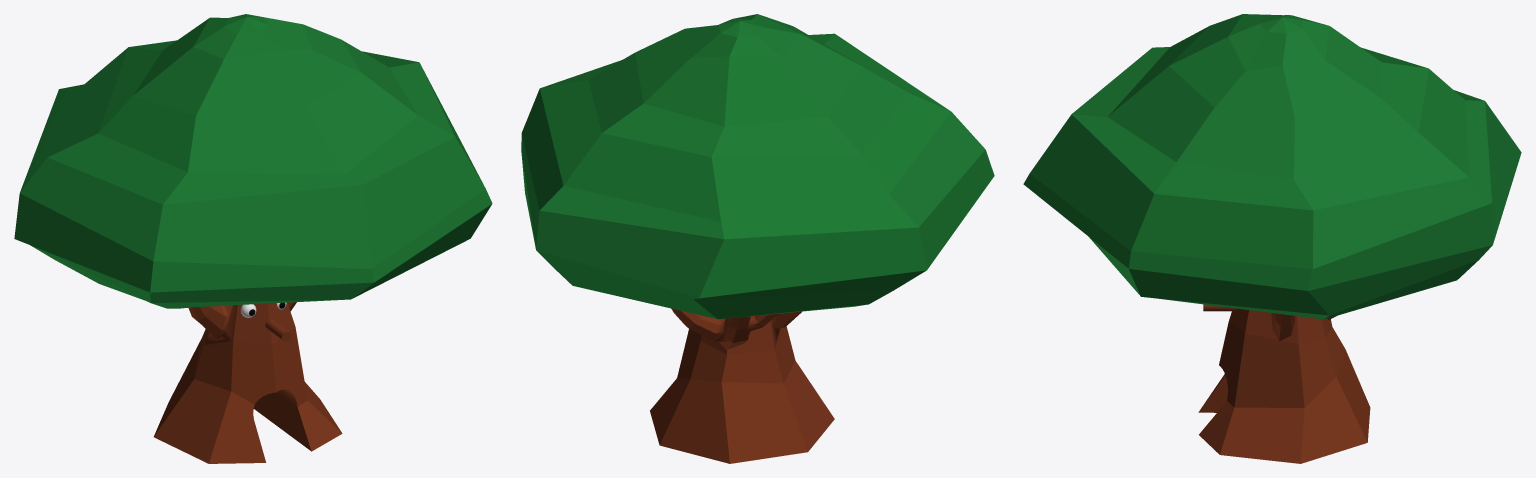
File: tree.glb
3 renders of one model, left to right at view 1: azimuth 30°, elevation 25°; view 2: azimuth 150°, elevation 25°; view 3: azimuth 270°, elevation 25°, orthographic.
Parts seen in each view (by area): view 1: Tree; view 2: Tree; view 3: Tree.
Part boxes in pixels (box(x1,y1,x2,y2)): Tree: box(14, 14, 492, 463); Tree: box(521, 14, 994, 463); Tree: box(1023, 14, 1521, 463).
Bounding box in the file's own units: 9.89 × 9.19 × 10.21.
